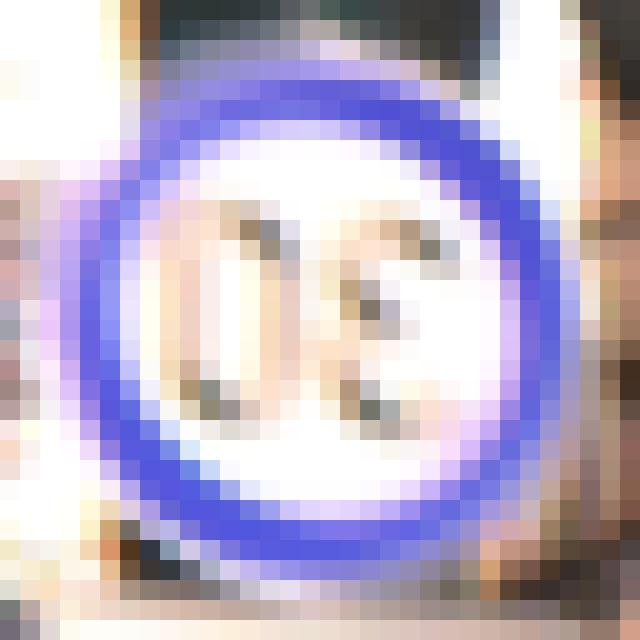SPEED LIMIT 30: (92, 56, 556, 606)
